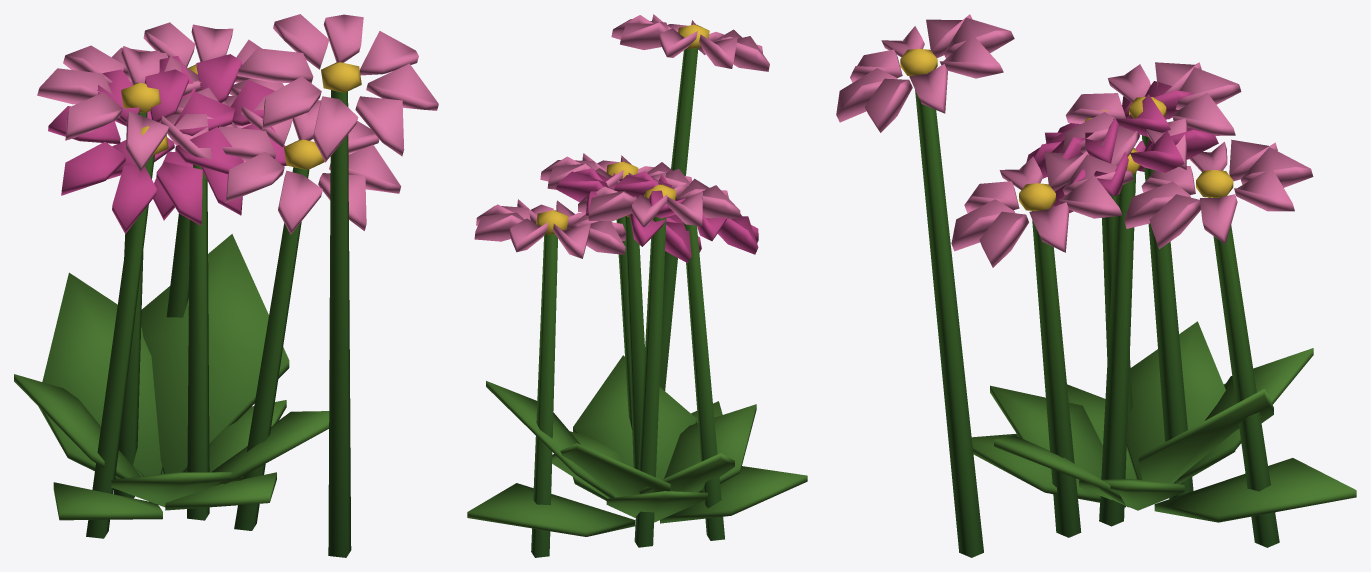
Rendered from flowers_cosmos_lod1.glb.
3 views of the same model, side by side, from view 1: azimuth 30°, elevation 25°; view 2: azimuth 150°, elevation 25°; view 3: azimuth 270°, elevation 25° (orthographic). The views are drawn at different scales.
Visible parts, largest first — view 1: flowers_cosmos_lod1; view 2: flowers_cosmos_lod1; view 3: flowers_cosmos_lod1.
Boxes of the visible parts, x1=… form: flowers_cosmos_lod1: x1=14, y1=14, x2=438, y2=557; flowers_cosmos_lod1: x1=467, y1=14, x2=807, y2=557; flowers_cosmos_lod1: x1=836, y1=14, x2=1356, y2=557.
Size of the model in its own units: 0.306 by 0.4884 by 0.4504.
